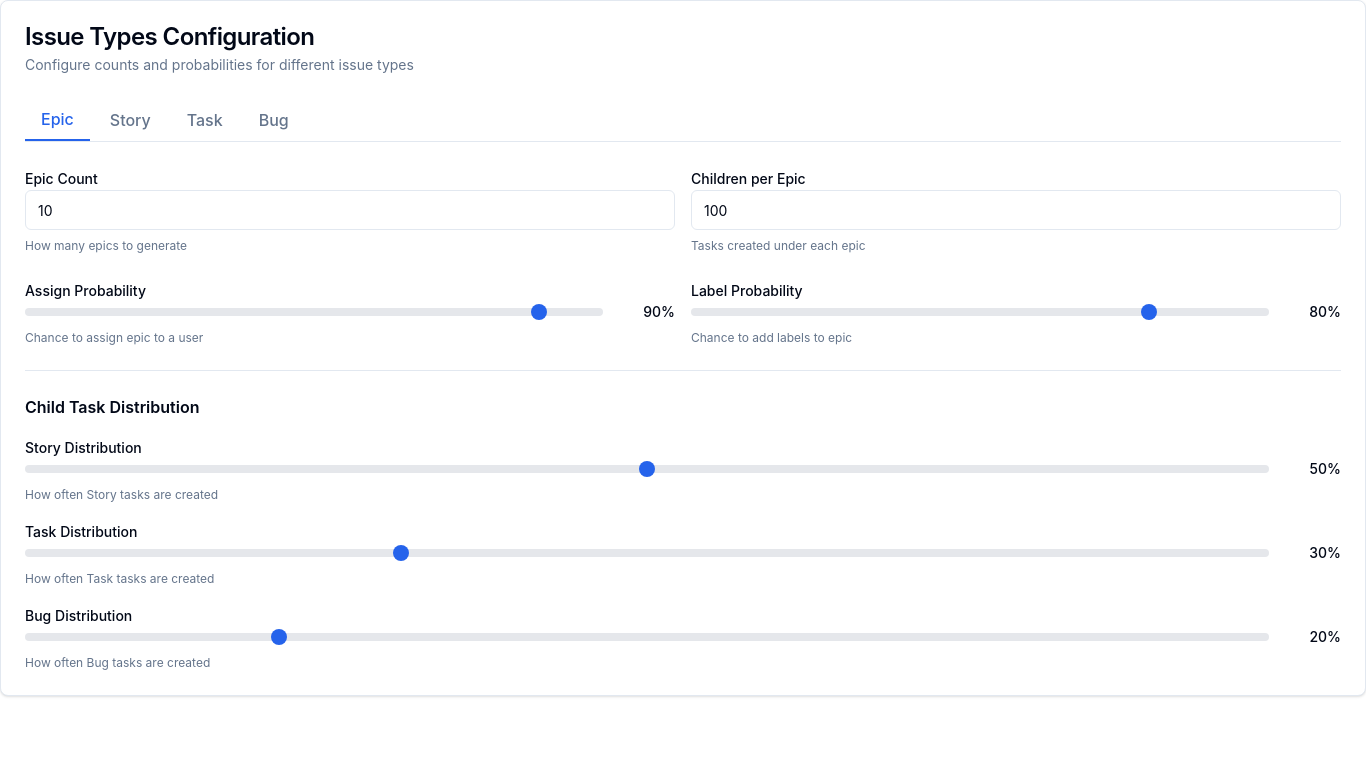
Test: IssueTypesSection › switches between tabs
The width and height of the screenshot is (1366, 768).
Expected: the number field showing "10" is shown, [25,190,675,230]
Switch to Story tab
Click the button "Story" at {"x": 130, "y": 120}, box [94,99,167,141]
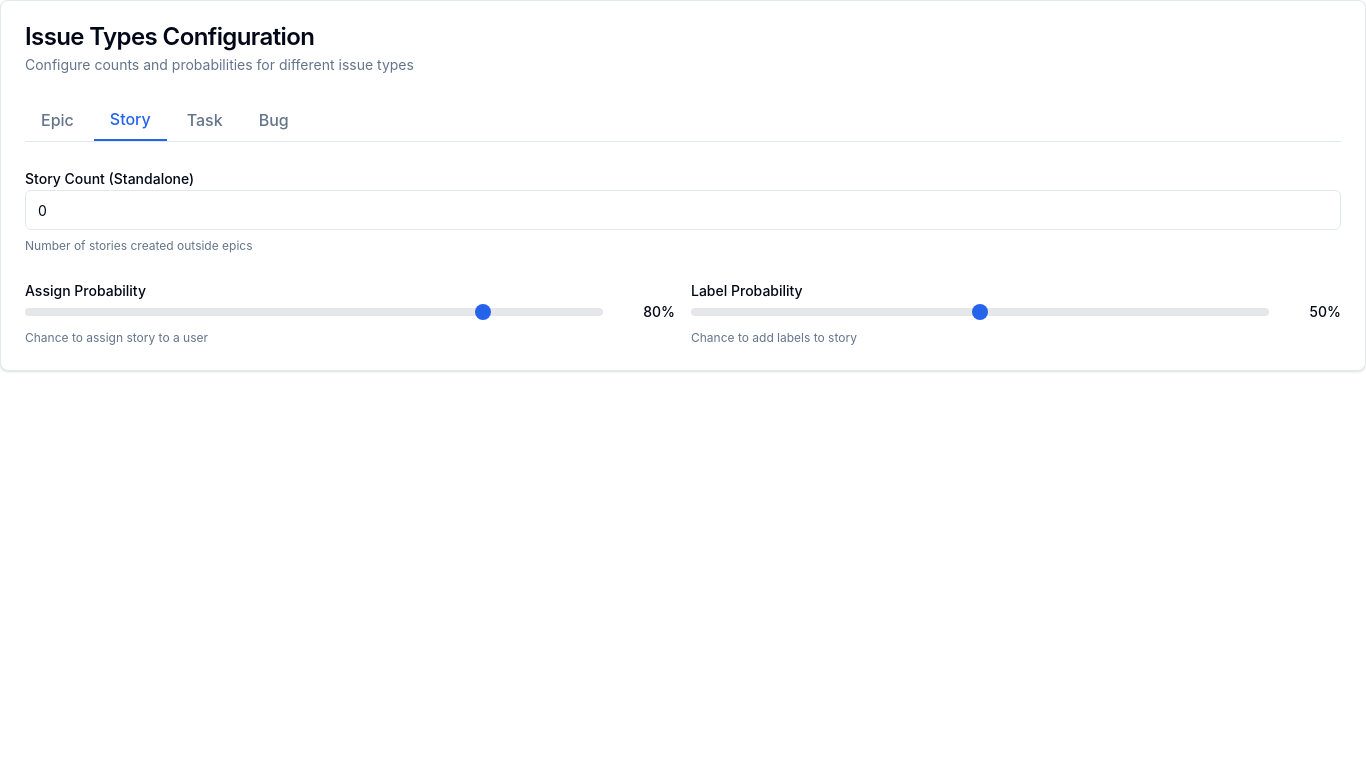
Result: the number field labelled "Story Count (Standalone)" is shown at [25,190,1341,230]
